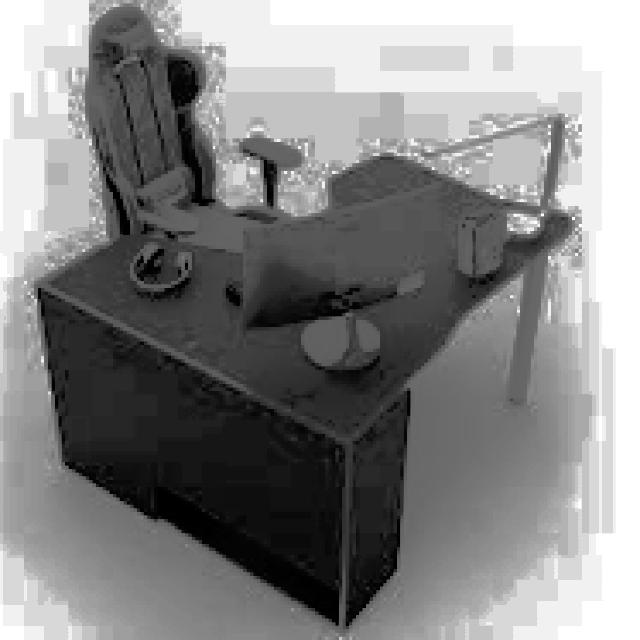book: (82, 3, 298, 245)
table: (21, 145, 598, 620)
